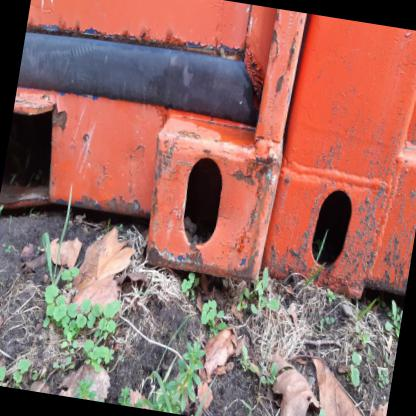CornerCasting: (135, 90, 287, 284), (254, 150, 393, 302)
